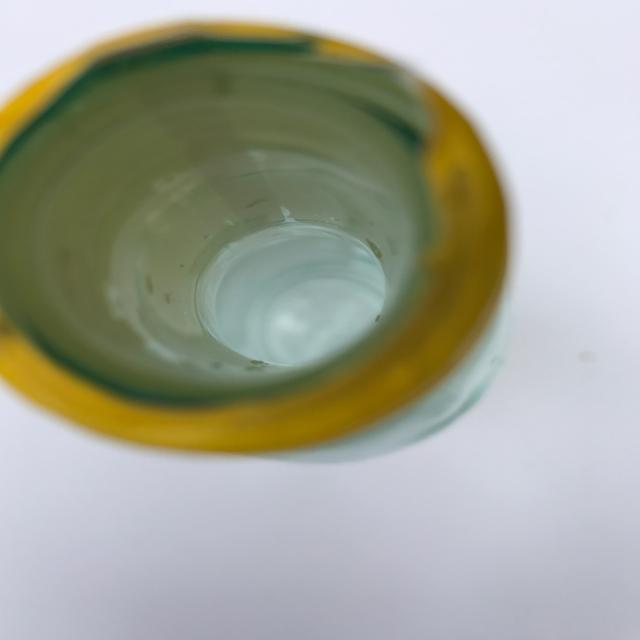glass: (0, 17, 513, 464)
